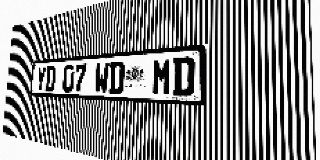0: (62, 64, 75, 92)
7: (73, 64, 87, 93)
D: (172, 56, 195, 97), (108, 61, 125, 94), (45, 66, 56, 92)
M: (152, 58, 172, 96)
W: (94, 62, 109, 94)
Y: (36, 66, 46, 91)
